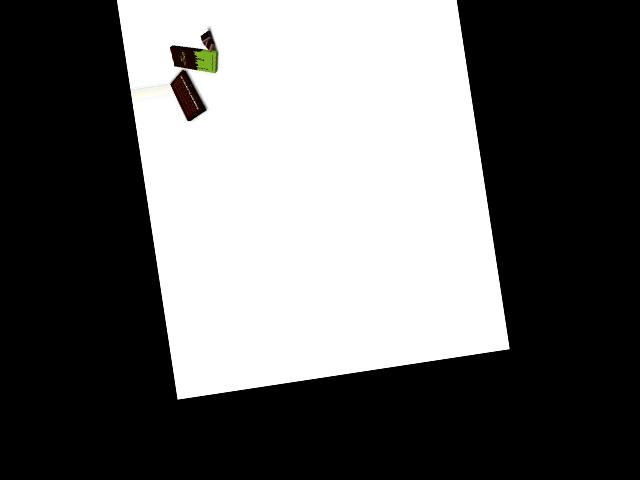chocolate: (169, 42, 222, 76)
